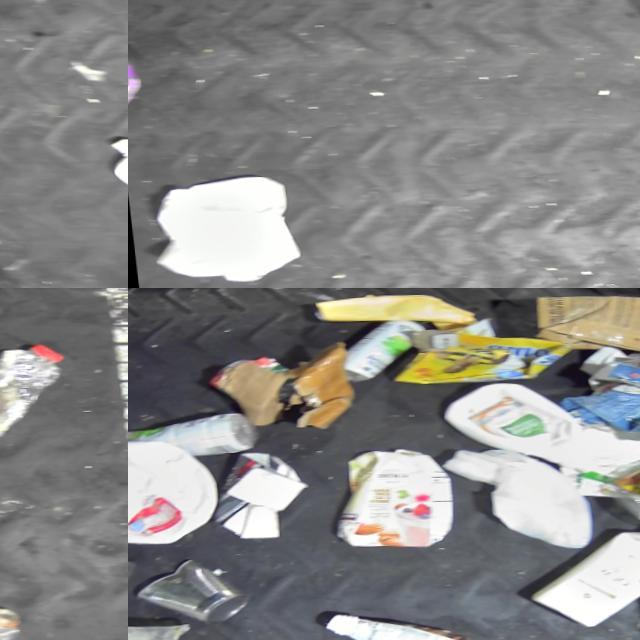can: (128, 553, 243, 622)
milk_jug: (139, 171, 299, 284), (437, 442, 587, 549), (437, 377, 597, 476), (128, 435, 221, 545), (93, 127, 128, 216)
plastic_bottle: (0, 339, 72, 439)
